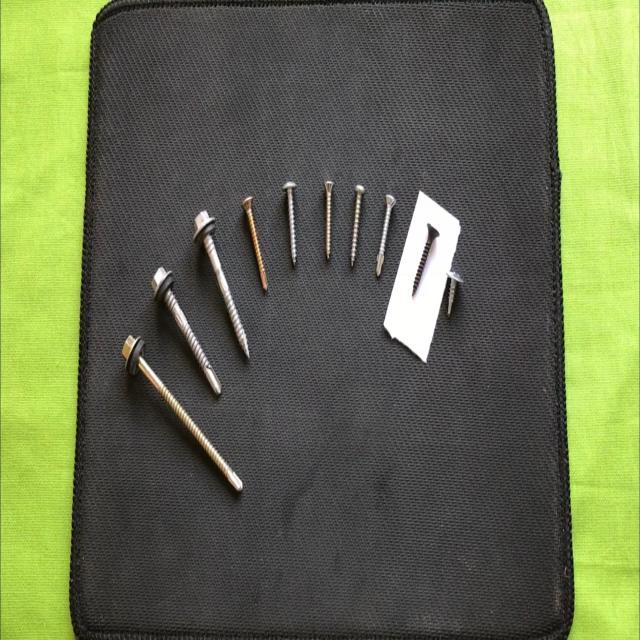Screw: (121, 335, 242, 492), (151, 266, 221, 395), (193, 209, 249, 358), (242, 195, 268, 291), (413, 222, 440, 296), (379, 193, 397, 260), (351, 183, 365, 266), (283, 181, 296, 265), (448, 270, 464, 315), (325, 180, 334, 259), (376, 260, 382, 275)
